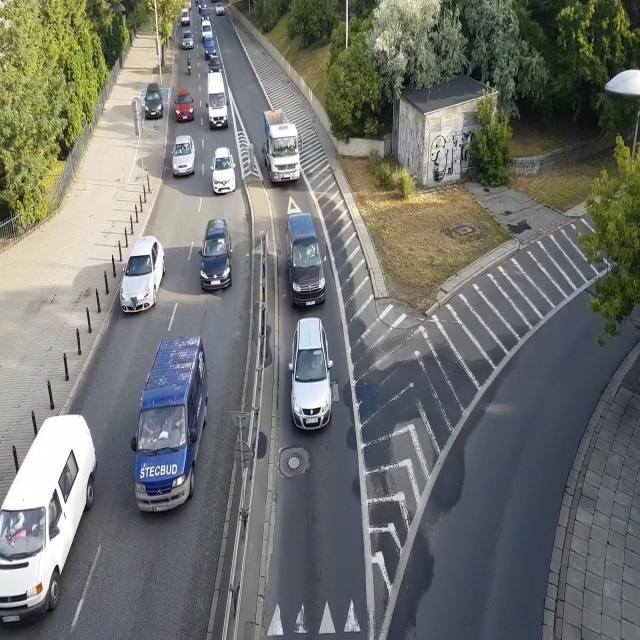car: (287, 318, 334, 432), (119, 236, 166, 313), (197, 218, 233, 294), (210, 147, 236, 196), (172, 134, 196, 178), (143, 82, 165, 121), (174, 86, 195, 125), (206, 55, 224, 75), (181, 28, 194, 51), (200, 10, 212, 24), (215, 2, 226, 17), (197, 1, 208, 14)
motorcycle: (186, 51, 192, 77)
truck: (260, 108, 302, 187)
van: (0, 415, 98, 628), (131, 335, 210, 515), (285, 212, 328, 310), (205, 71, 230, 131), (203, 32, 217, 60), (179, 10, 192, 26), (202, 19, 212, 39)
